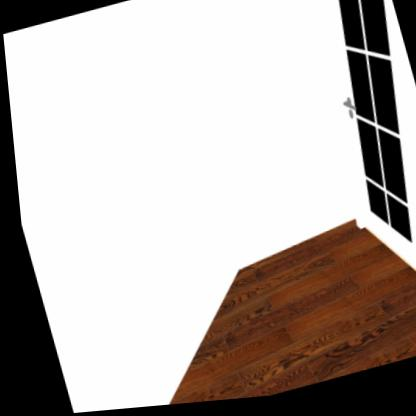Wooden floor: (160, 226, 416, 407)
